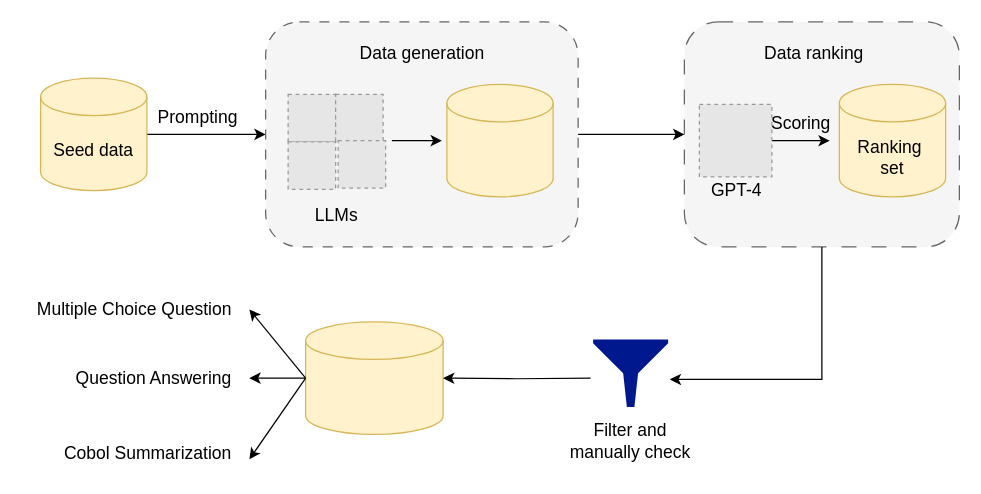
This 981x494 diagram has some shape labels left out. Grey dashed boxes stand in for pictures. The shapes that lost their labels are listed below. From the top down, each one's box as (x1, y1, x2, y2) in pixels, then its label:
(446, 83, 553, 197): Generation set
(304, 321, 443, 434): Instruction data
